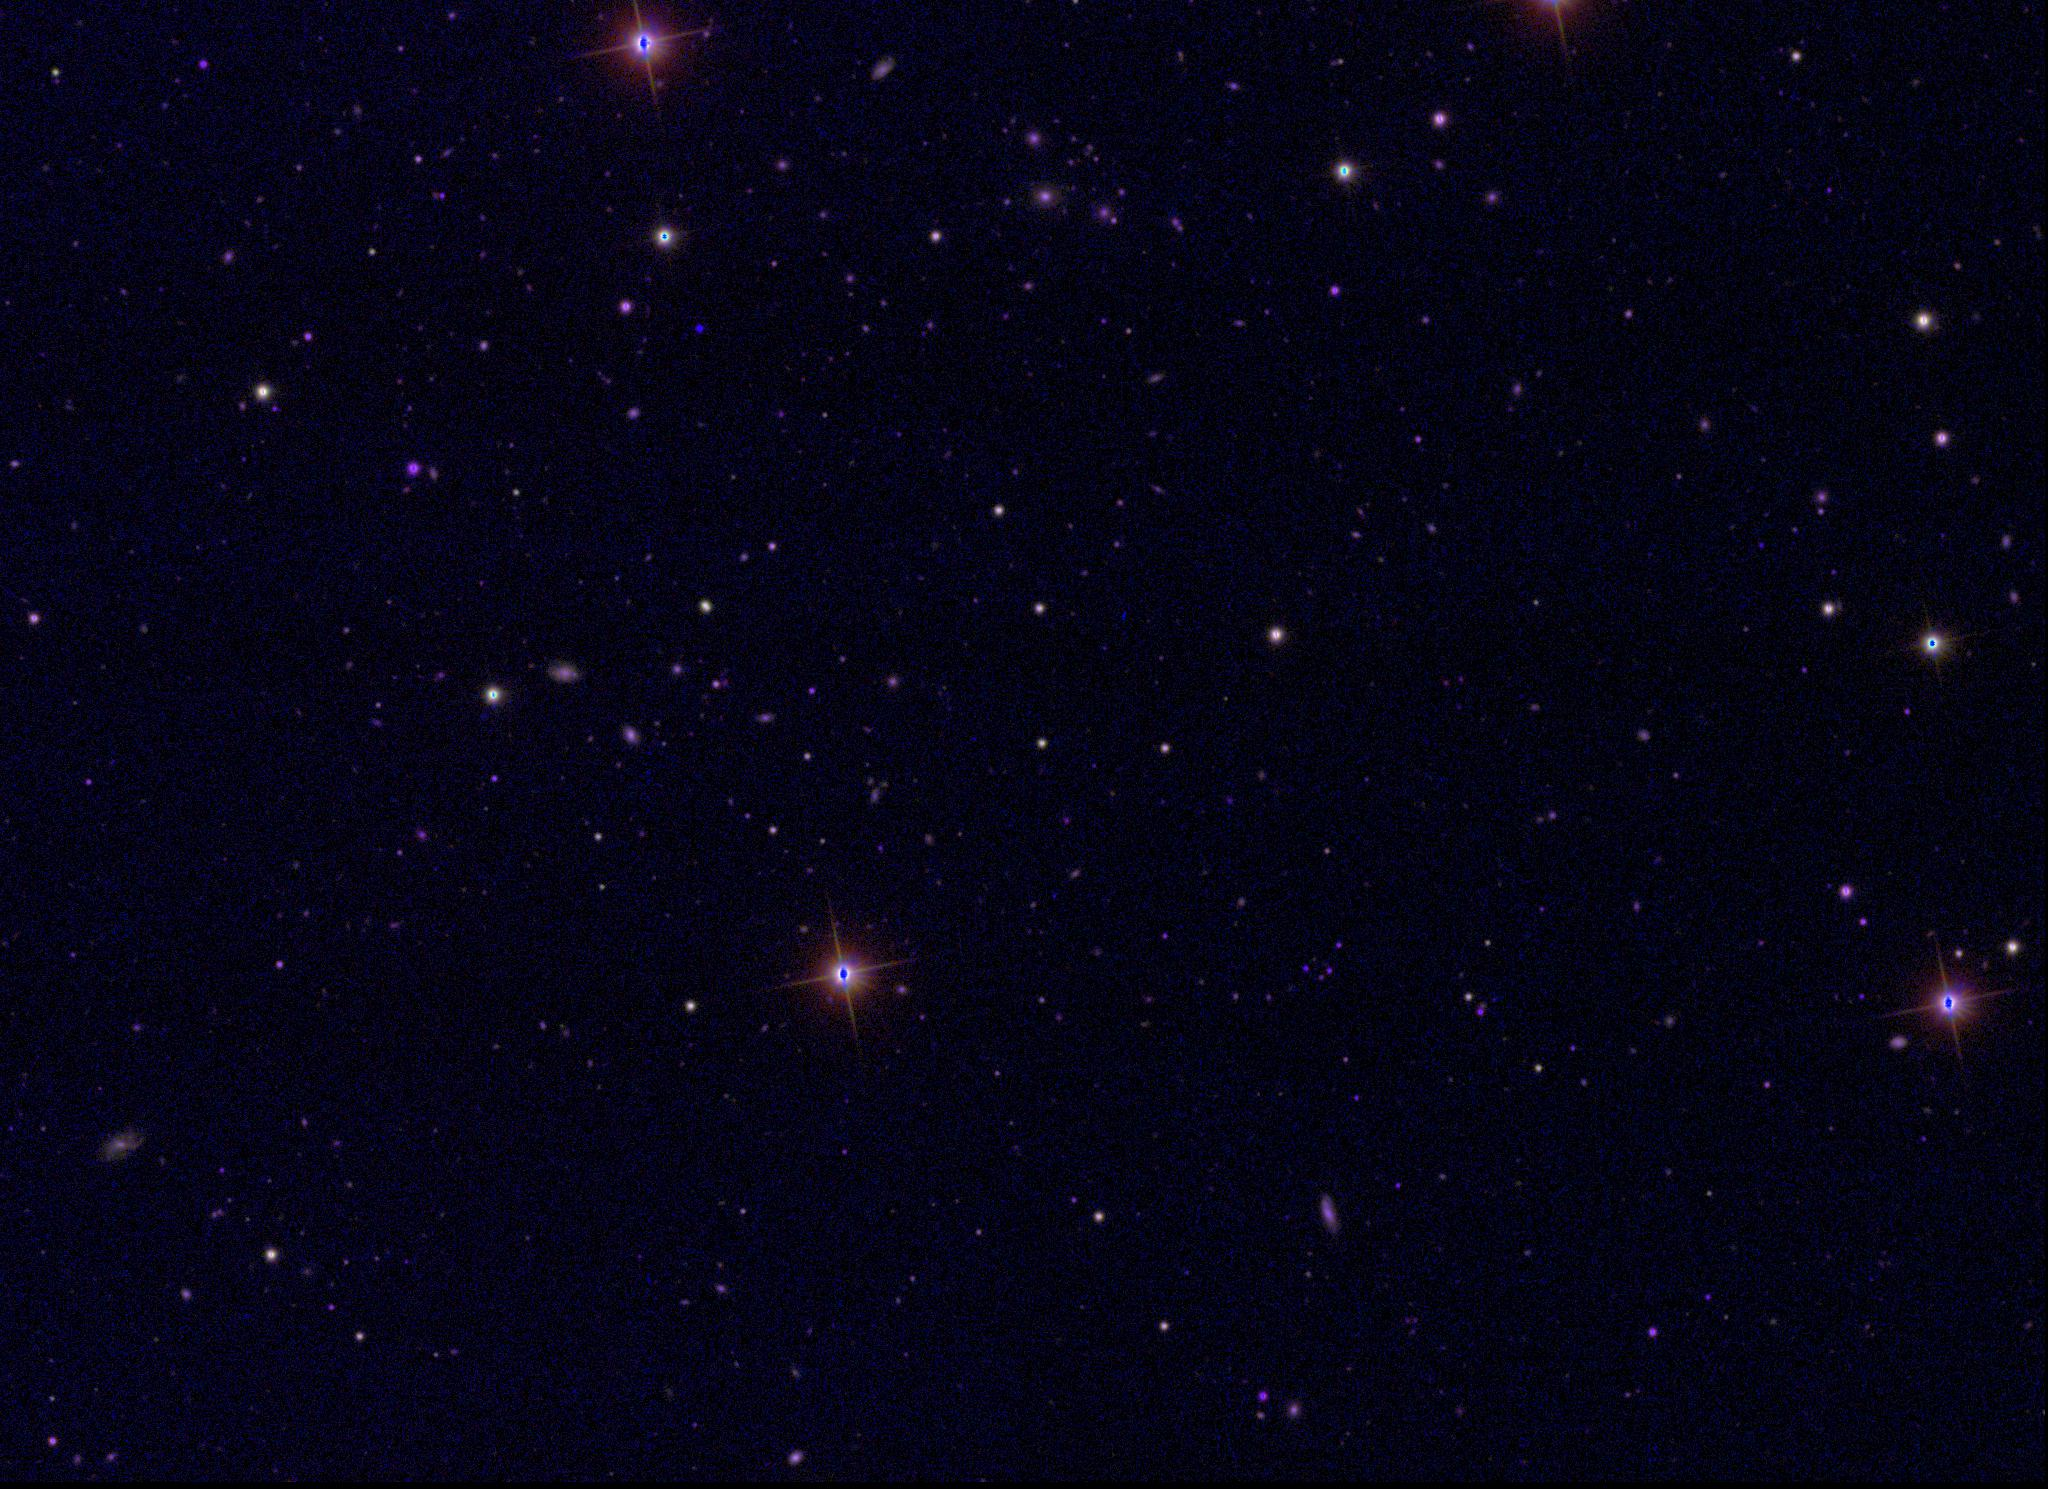L: (693, 321, 708, 336)
